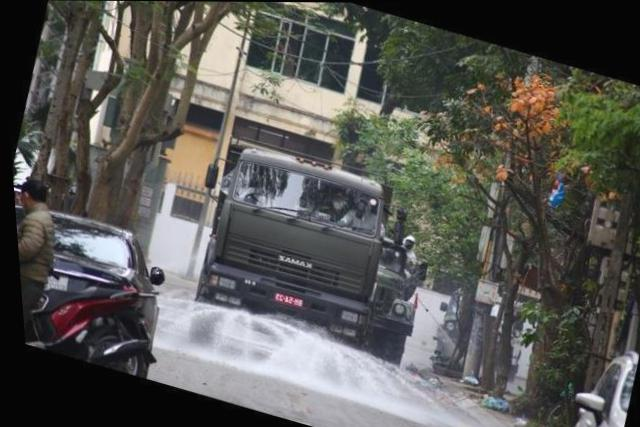License_Plate: (272, 291, 305, 315)
